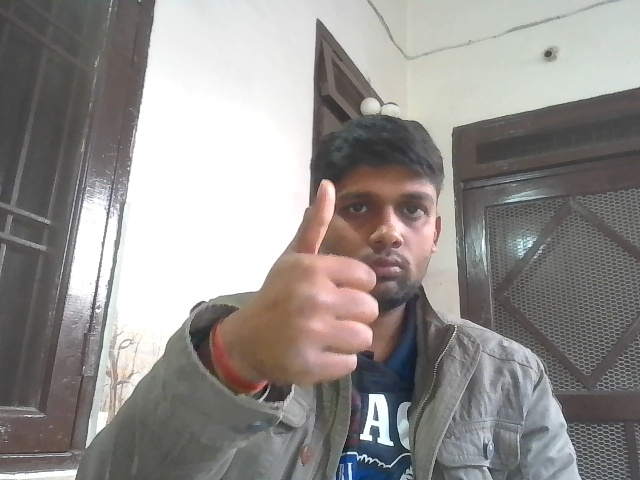BestOfLuck: (260, 172, 385, 383)
